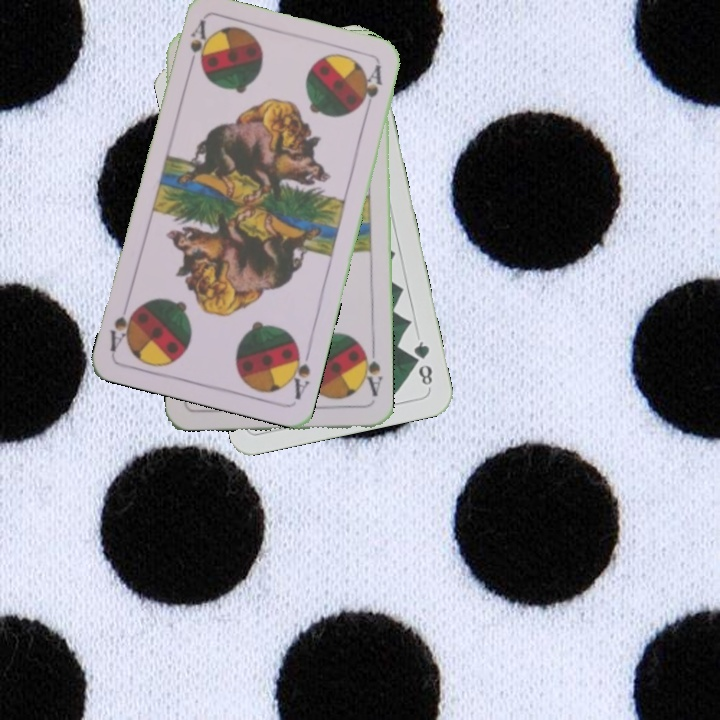G8: (409, 337, 435, 391)
SA: (283, 341, 313, 403), (184, 17, 209, 76), (358, 345, 385, 399)
